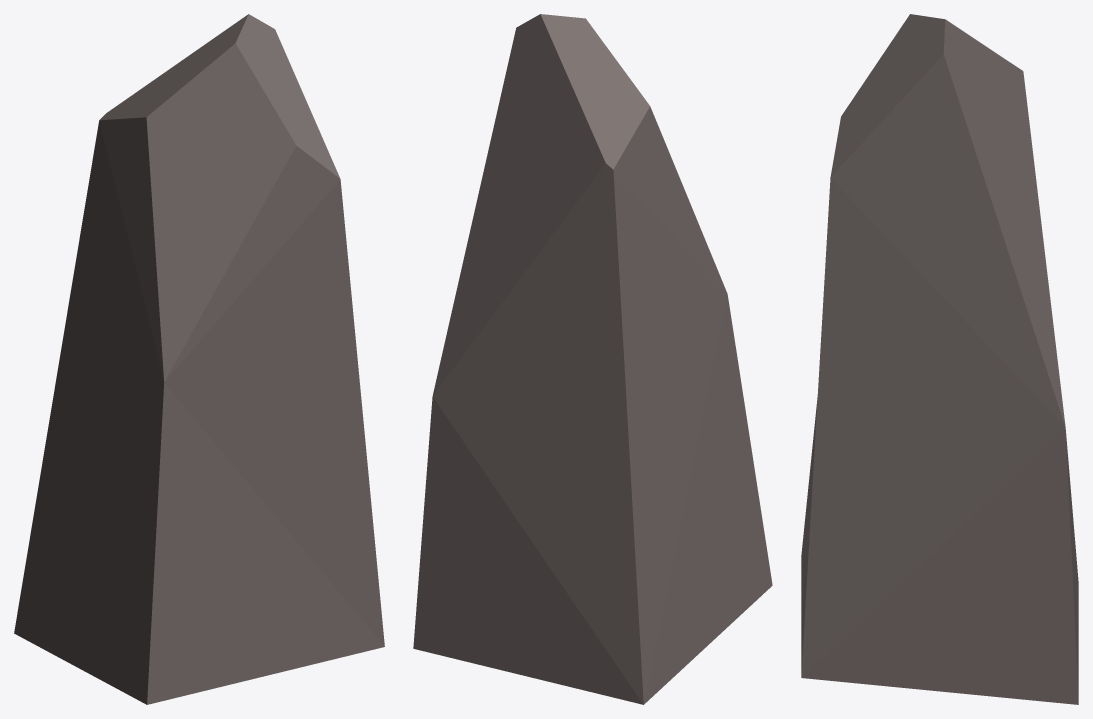
The model's file is Rock_Sharp_s_05.fbx.
The picture shows the model from 3 angles, left to right: view 1: azimuth 30°, elevation 25°; view 2: azimuth 150°, elevation 25°; view 3: azimuth 270°, elevation 25°; orthographic projection. The views are drawn at different scales.
Visible parts, largest first — view 1: Rock_Sharp_s_05; view 2: Rock_Sharp_s_05; view 3: Rock_Sharp_s_05.
Boxes of the visible parts, x1,y1,x2,y2 form: Rock_Sharp_s_05: [14, 14, 384, 704]; Rock_Sharp_s_05: [413, 14, 772, 704]; Rock_Sharp_s_05: [801, 14, 1078, 704].
Bounding box in the file's own units: 0.3324 × 0.8342 × 0.322.
